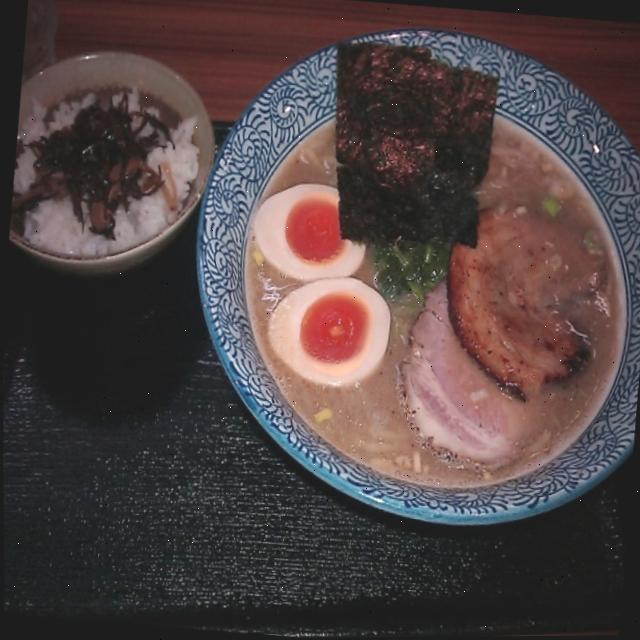面条主食: (178, 9, 640, 542)
